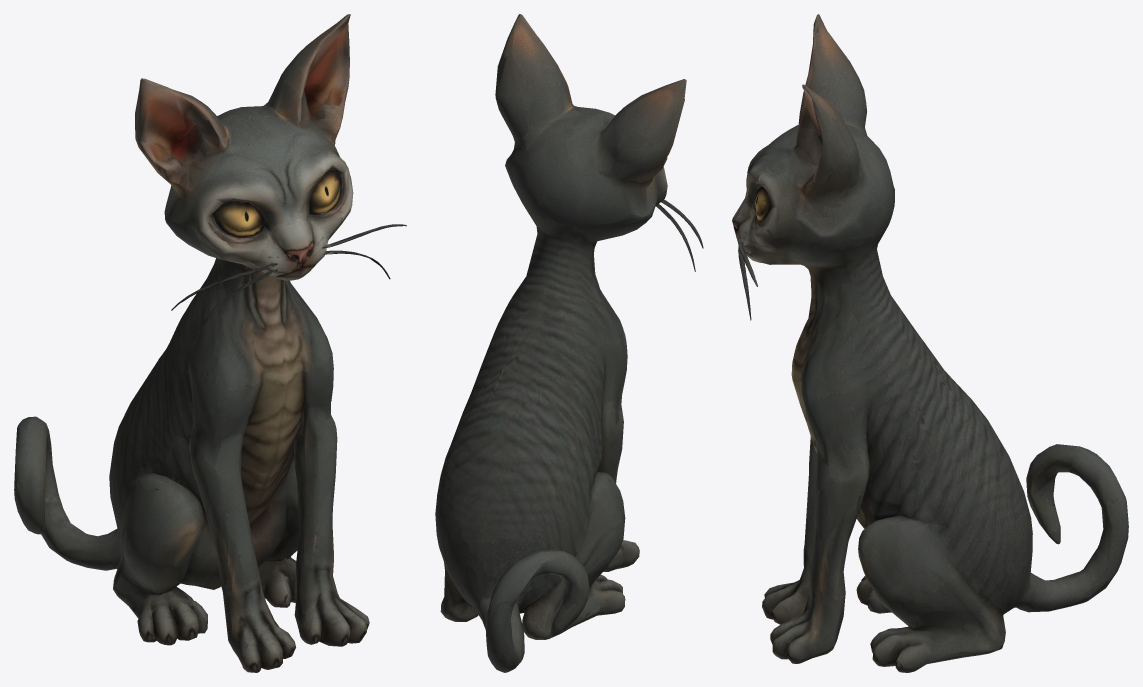
Rendered from norris.glb.
3 views of the same model, side by side, from view 1: azimuth 30°, elevation 25°; view 2: azimuth 150°, elevation 25°; view 3: azimuth 270°, elevation 25° (orthographic). The views are drawn at different scales.
Visible parts, largest first — view 1: norris; view 2: norris; view 3: norris.
Part boxes in pixels (box(x1,y1,x2,y2)): norris: box(14, 14, 406, 672); norris: box(435, 14, 703, 672); norris: box(732, 14, 1128, 672).
Size of the model in its own units: 0.1285 by 0.3199 by 0.1986.
Materials: 1 (1 with a texture image).
